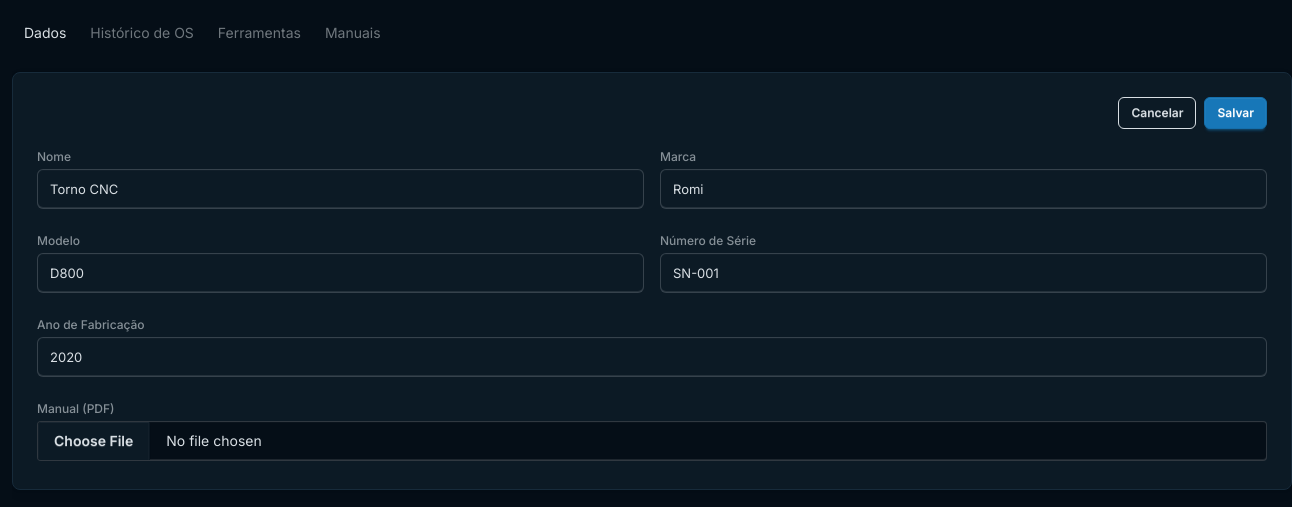
Test: MachineFormPage — Ferramentas tab › shows loading spinner when machineToolsLoading is true
Click the tab "Ferramentas".
click(259, 32)  # box [206,12,313,52]
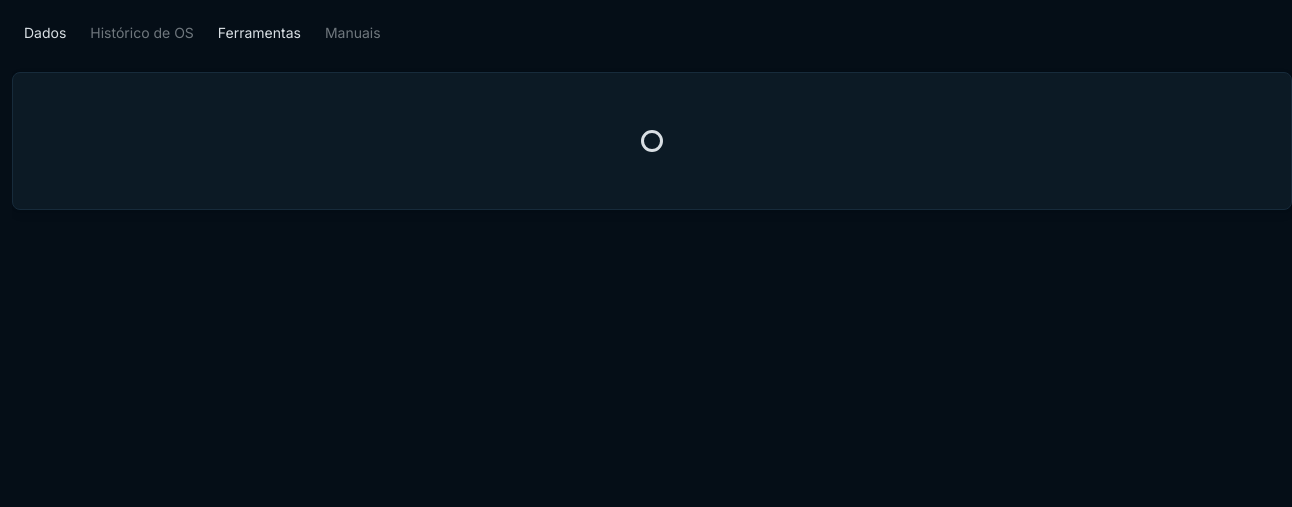
Result: the element with test id "machine-tools-loading" is shown at [640,129,664,153]
